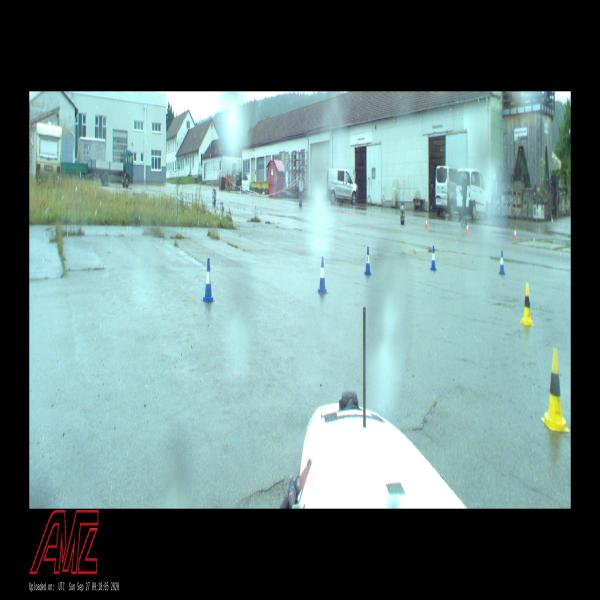blue_cone: (203, 258, 215, 303), (317, 256, 328, 294), (364, 246, 372, 276), (430, 246, 438, 272), (499, 250, 505, 275)
orange_cone: (514, 227, 517, 241), (466, 222, 469, 235), (425, 216, 428, 229)
yellow_cone: (541, 347, 570, 432), (520, 283, 534, 326)
